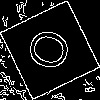O: (25, 25, 82, 77)
